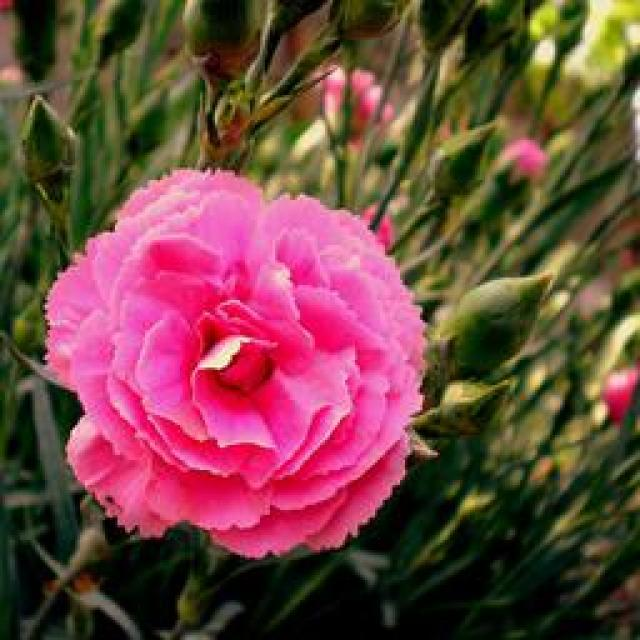carnation: (19, 152, 440, 570)
